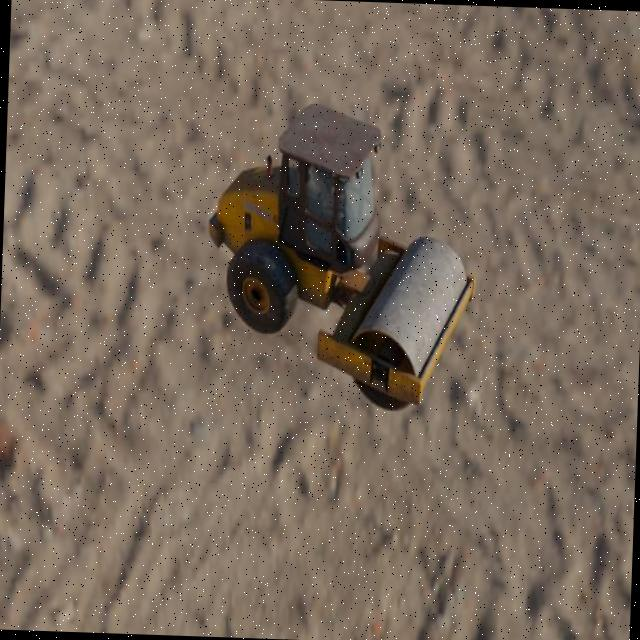Roller: (200, 97, 482, 413)
